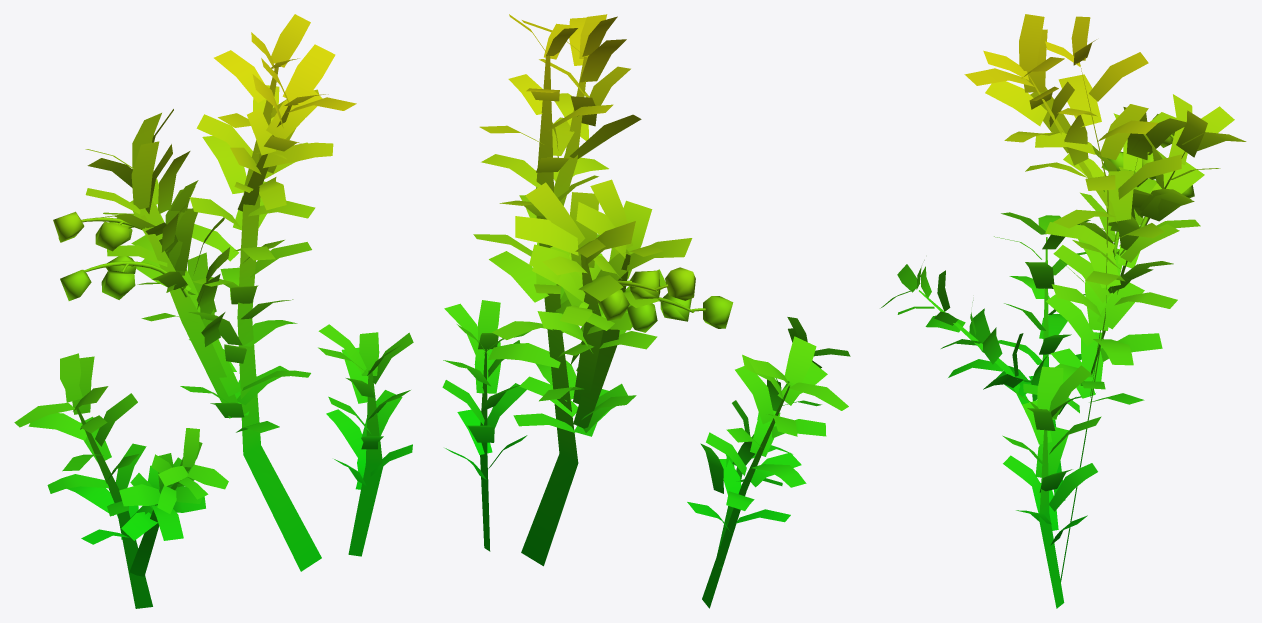
Rendered from Lingonberry_LOD3_Var8.fbx.
3 views of the same model, side by side, from view 1: azimuth 30°, elevation 25°; view 2: azimuth 150°, elevation 25°; view 3: azimuth 270°, elevation 25° (orthographic). The views are drawn at different scales.
Visible parts, largest first — view 1: _h5oz_Var8_LOD3; view 2: _h5oz_Var8_LOD3; view 3: _h5oz_Var8_LOD3.
Boxes of the visible parts, <box> form: _h5oz_Var8_LOD3: <box>14,14,413,608</box>; _h5oz_Var8_LOD3: <box>442,14,850,608</box>; _h5oz_Var8_LOD3: <box>880,14,1246,608</box>.
Bounding box in the file's own units: 13.56 × 17.96 × 10.88.
